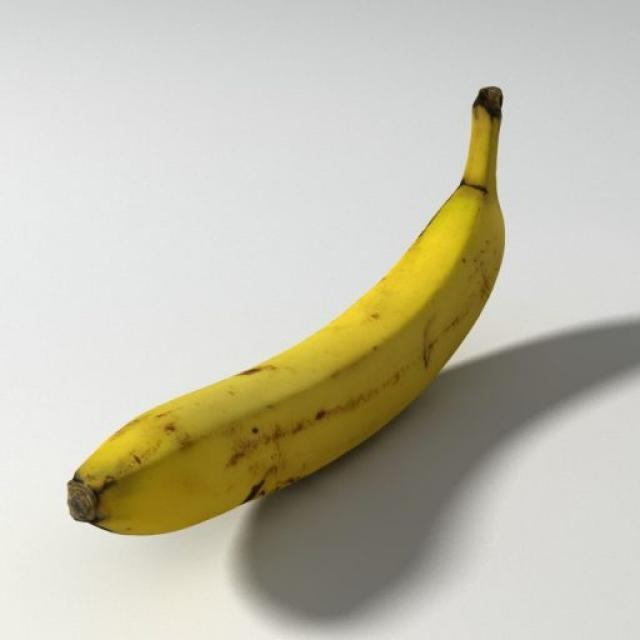Banana: (62, 83, 508, 539)
